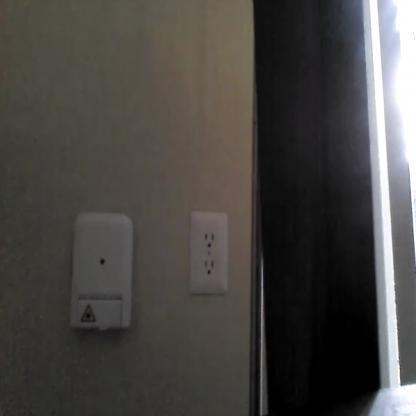OUTLET: (190, 211, 230, 297)
